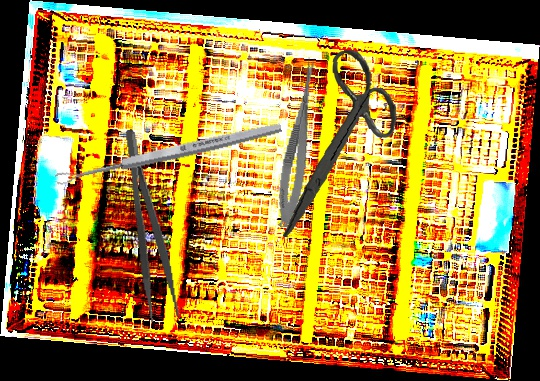Dressing Forceps: (121, 126, 181, 323)
Iris Scissors: (265, 46, 408, 238)
Micro Scissor: (273, 55, 321, 229)
Surgical Spoon: (54, 120, 283, 187)
